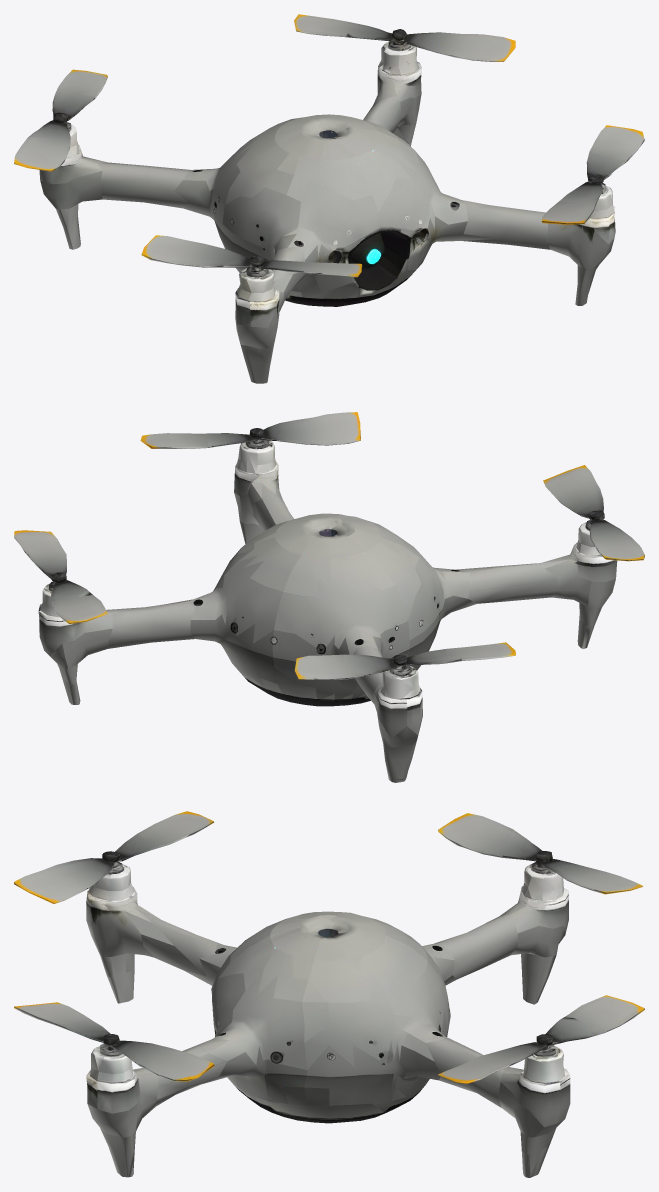
Rendered from drone.glb.
The picture shows the model from 3 angles, top to bottom: view 1: azimuth 30°, elevation 25°; view 2: azimuth 150°, elevation 25°; view 3: azimuth 270°, elevation 25°; orthographic projection. The views are drawn at different scales.
Size of the model in its own units: 0.6 by 0.1746 by 0.5941.
Materials: 1 (1 with a texture image).
